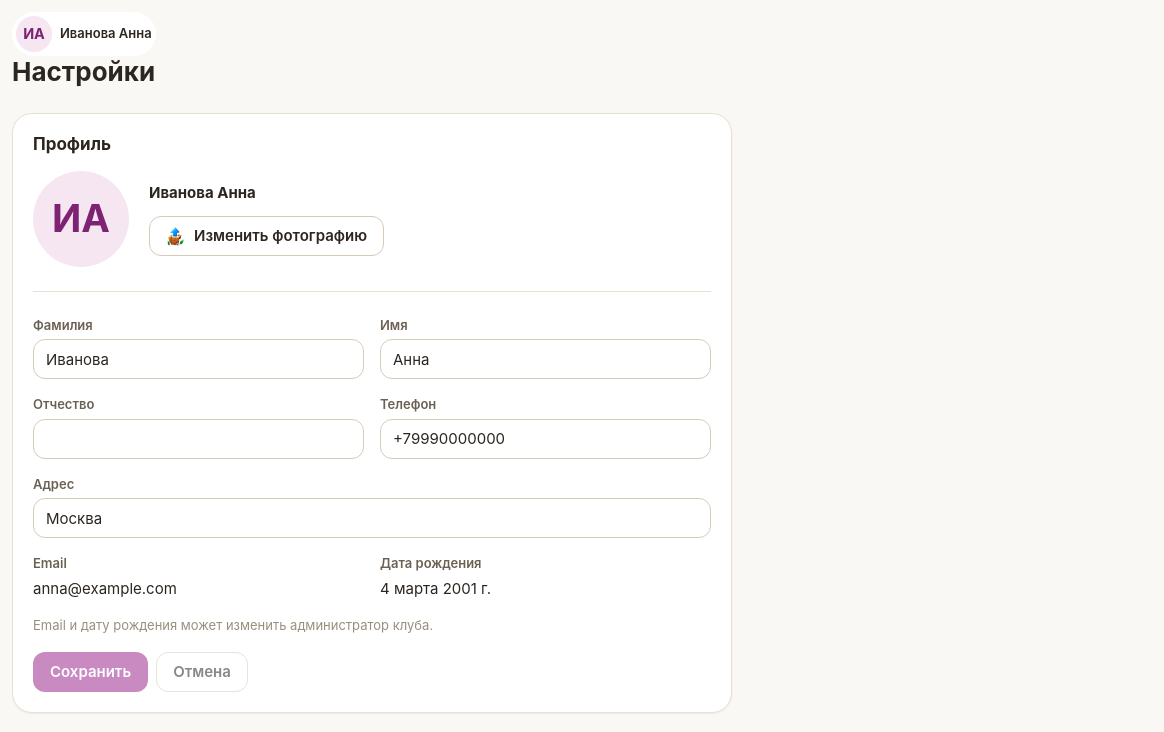
SettingsPage profile data (TH #311) › saves only the changed allowed fields via PATCH and updates the header without reload
Replace the text in the field labelled "Фамилия" with "Петрова" at (198, 359), box [33,339,364,379]
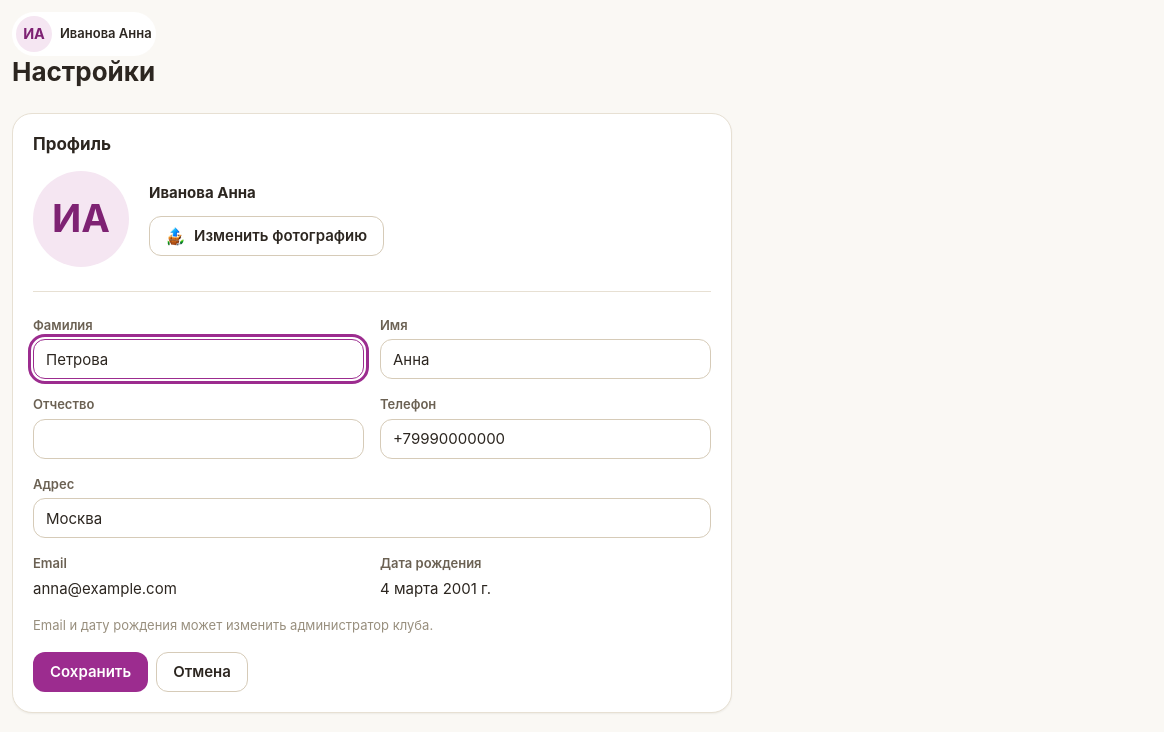
Type "Сергеевна" into the field labelled "Отчество" at (198, 439), box [33,419,364,459]
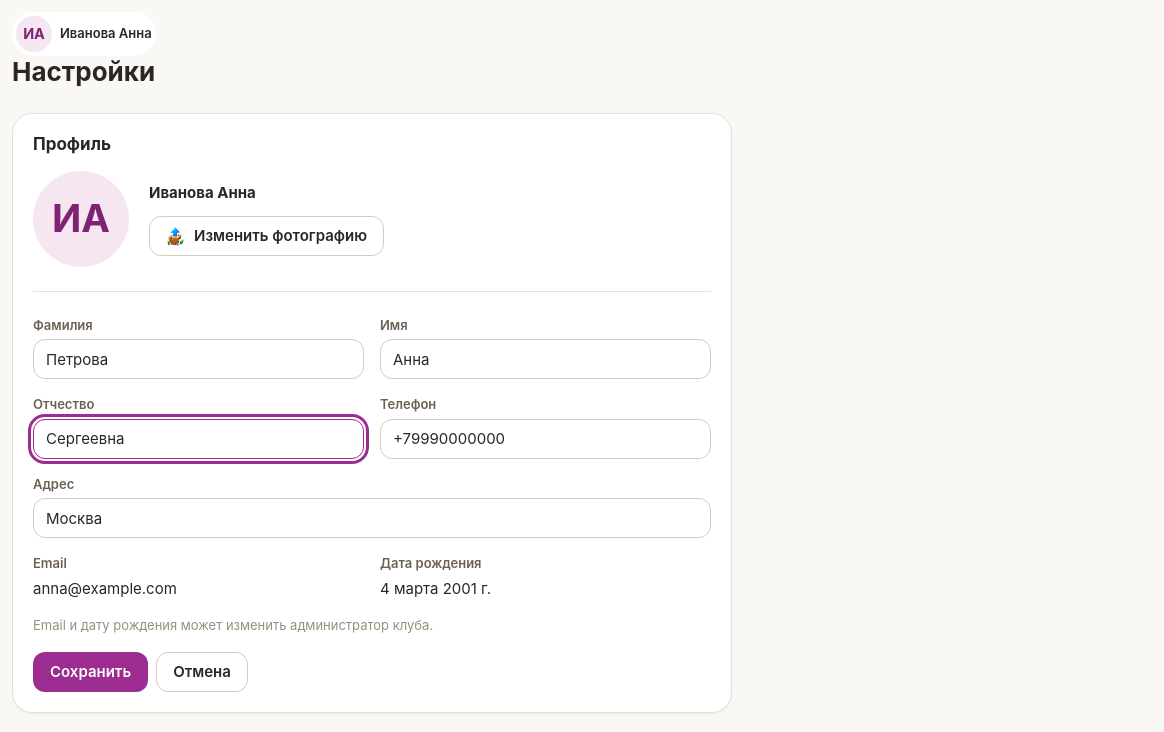
Clear the field labelled "Адрес" at (372, 518), box [33,498,711,538]
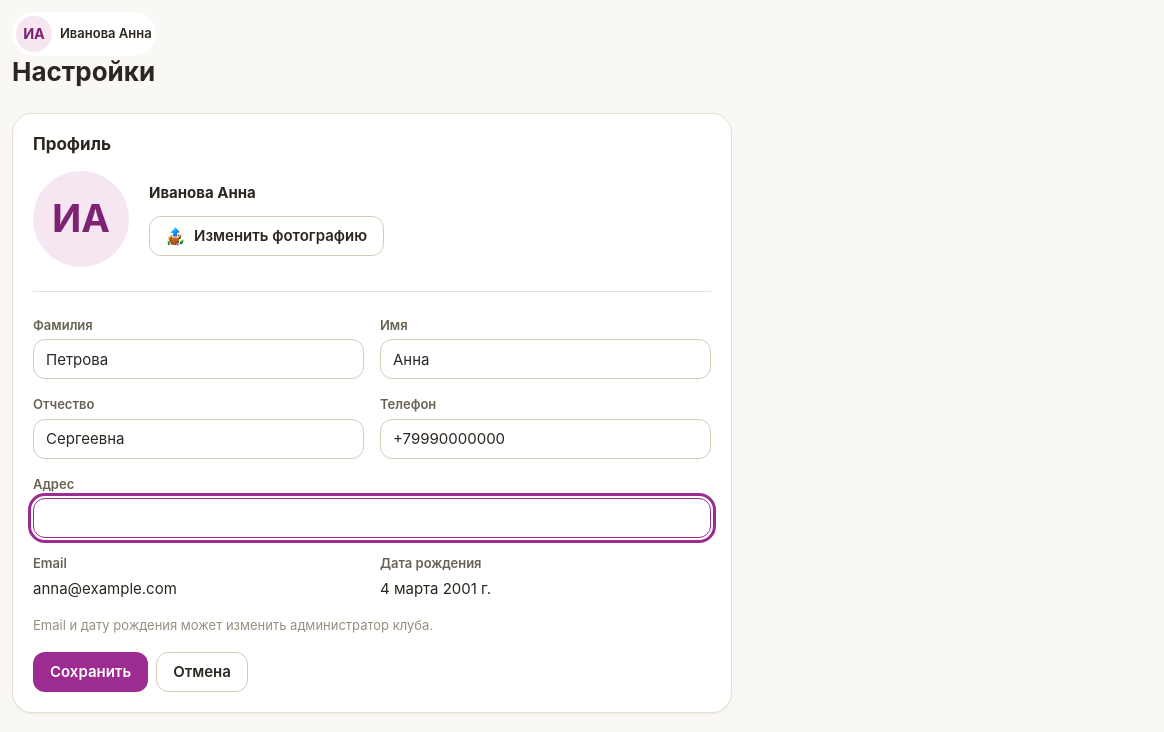
Click the button "Сохранить" at (91, 672), box [33,652,148,692]
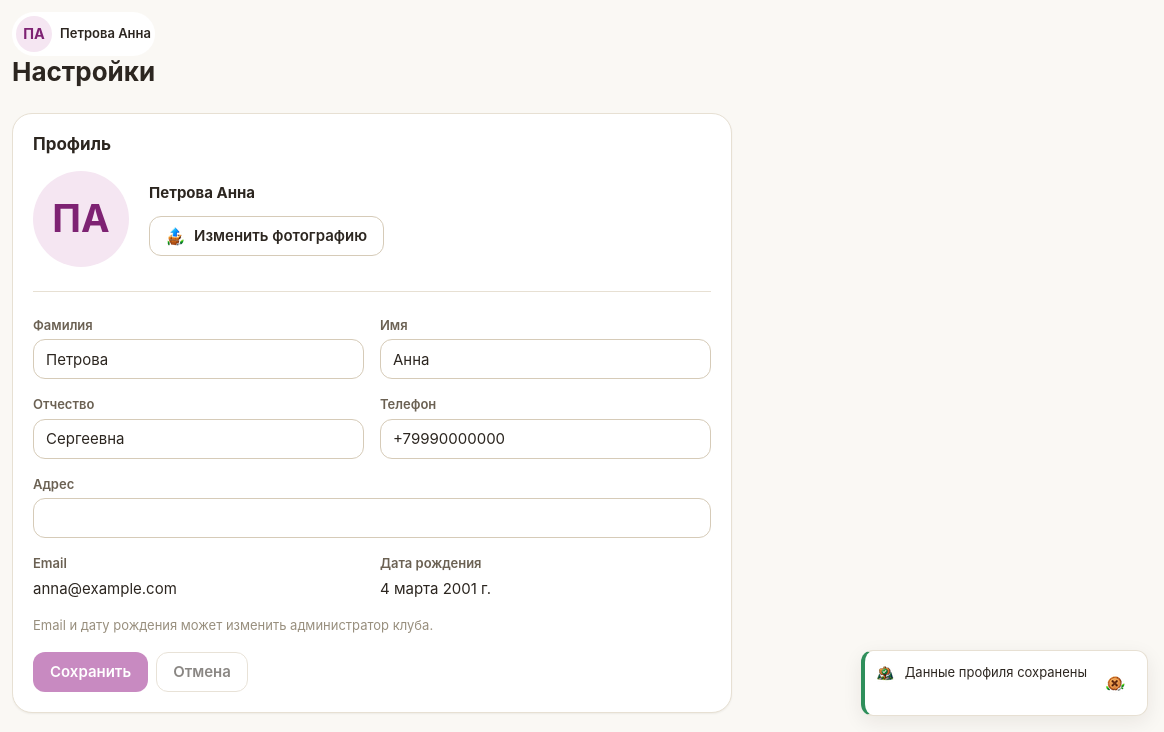
Now the text "Данные профиля сохранены" is shown, box [905,663,1087,682]
Now the button "ПА Петрова Анна" is shown, box [12,12,155,56]
Now the button "Сохранить" is disabled, box [33,652,148,692]
